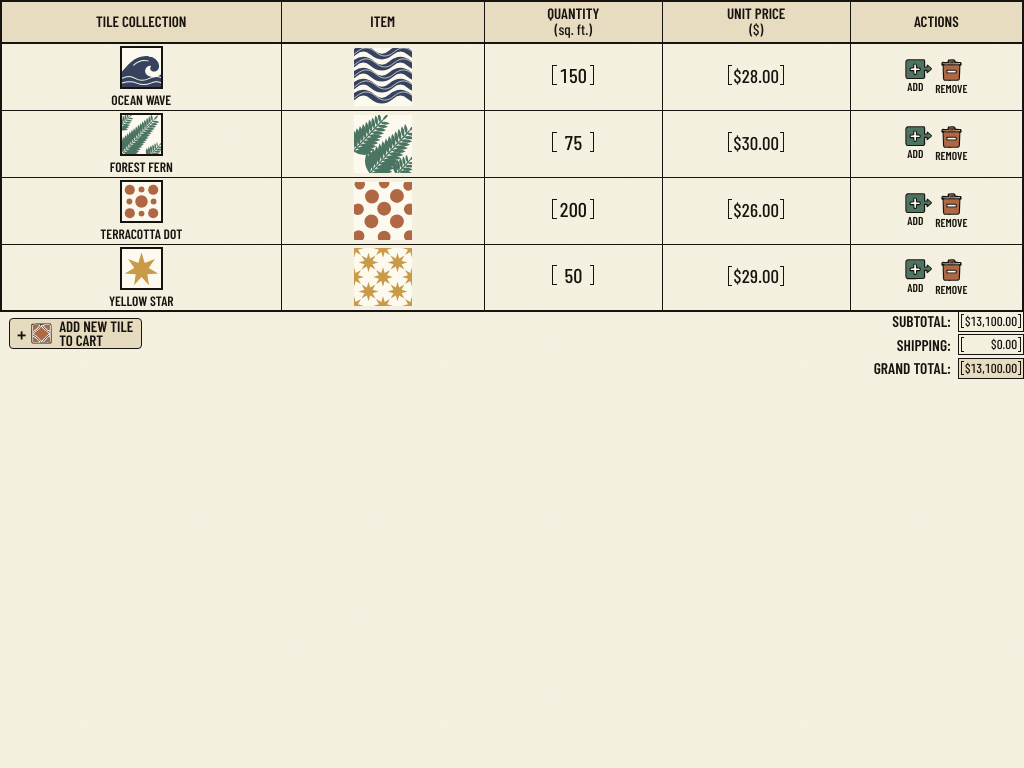
Test: <CartPanel /> › ignores letters typed into a quantity
Replace the text in the field named "Forest Fern quantity, square feet" with "1x2" at (573, 142), box [558, 130, 588, 154]
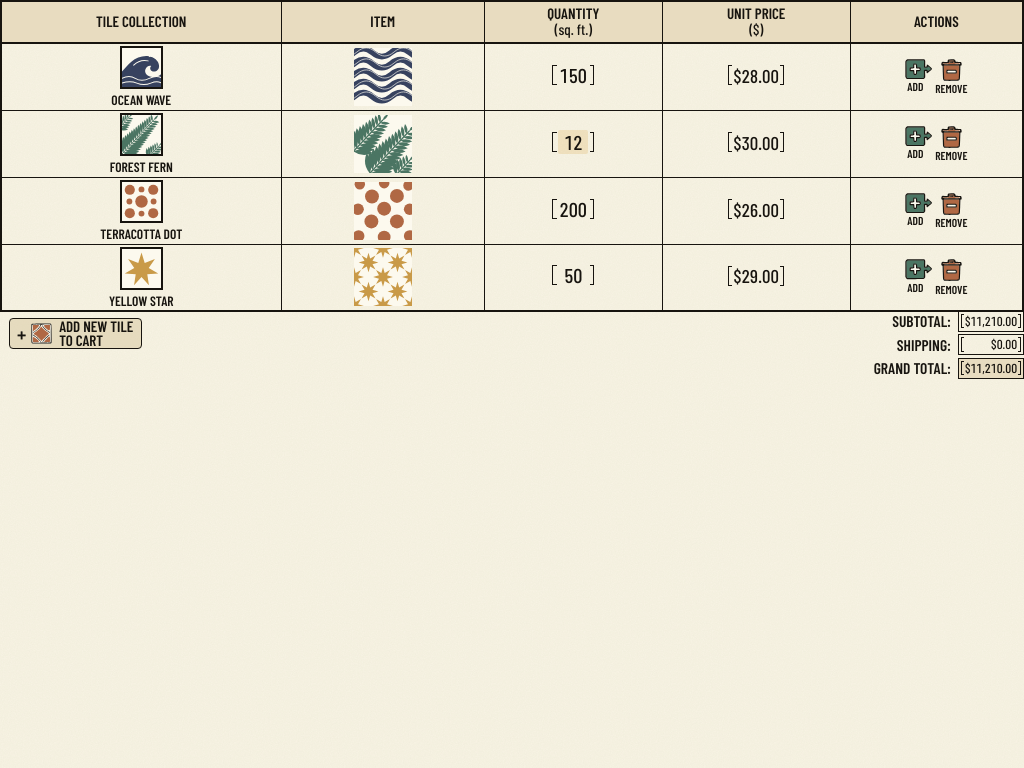
Expected: the field named "Forest Fern quantity, square feet" holds "12", [558, 130, 588, 154]
